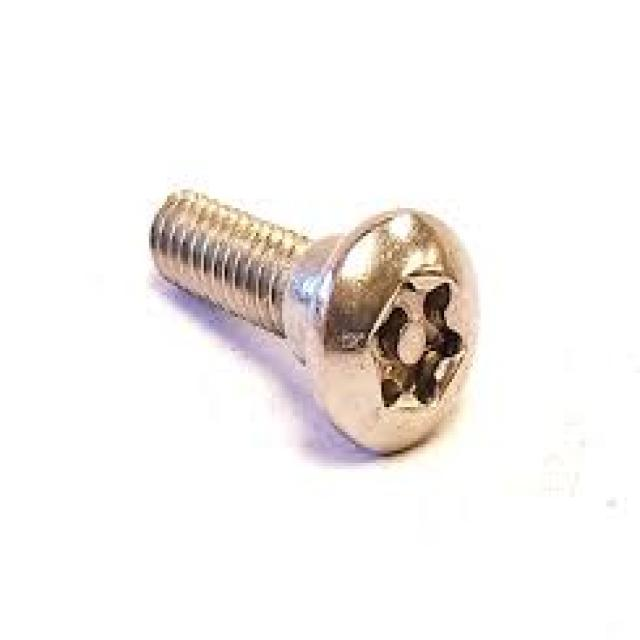torx: (310, 206, 480, 454)
